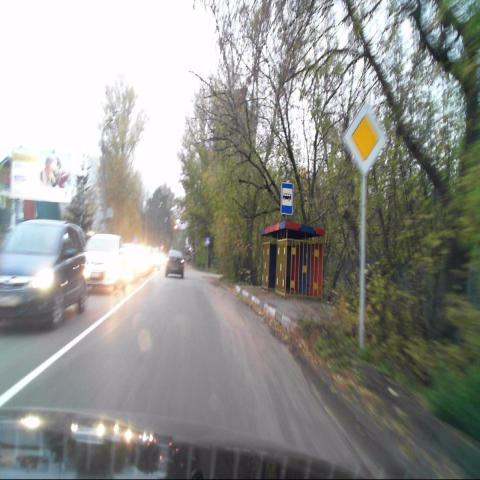2_1: (344, 100, 386, 175)
5_16: (280, 182, 294, 215)
